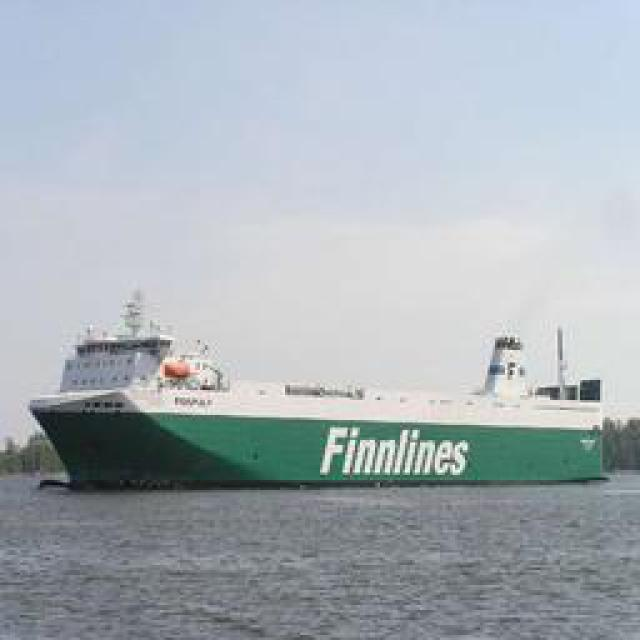Ship: (26, 309, 616, 494)
